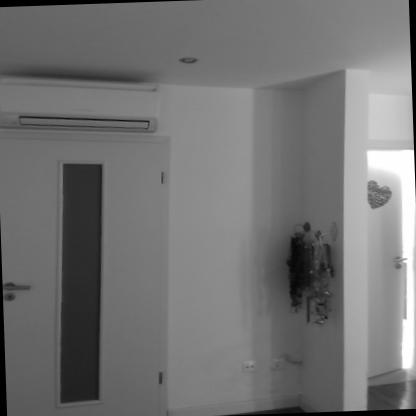closed: (0, 129, 186, 416)
